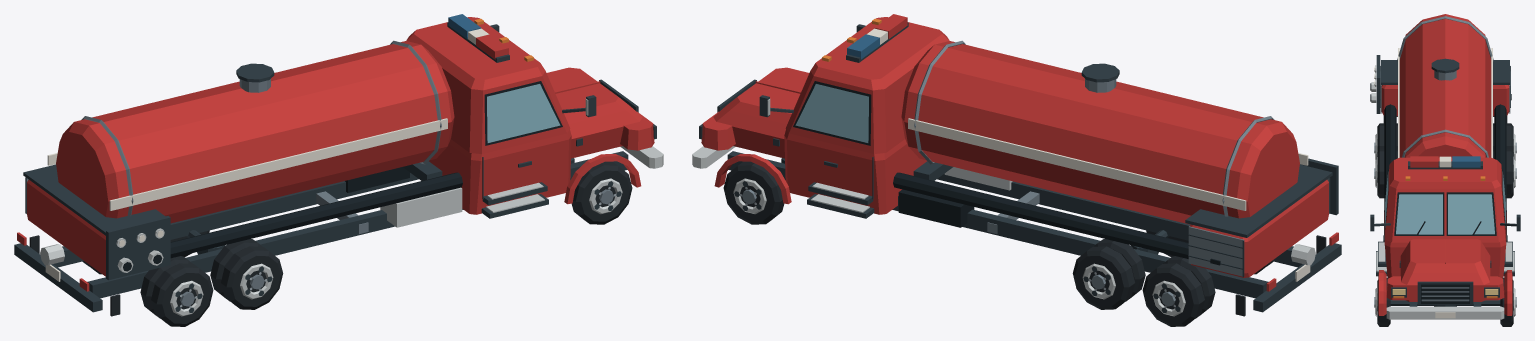
File: b15_fire_water_tender.glb
3 views of the same model, side by side, from view 1: azimuth 30°, elevation 25°; view 2: azimuth 150°, elevation 25°; view 3: azimuth 270°, elevation 25° (orthographic). The views are drawn at different scales.
Visible parts, largest first — view 1: b15_fire_water_tender; view 2: b15_fire_water_tender; view 3: b15_fire_water_tender.
Boxes of the visible parts, left/top/right/bottom form: b15_fire_water_tender: left=14, top=14, right=663, bottom=326; b15_fire_water_tender: left=692, top=14, right=1341, bottom=326; b15_fire_water_tender: left=1370, top=14, right=1520, bottom=326.
Size of the model in its own units: 9.85 by 3.16 by 2.91.
